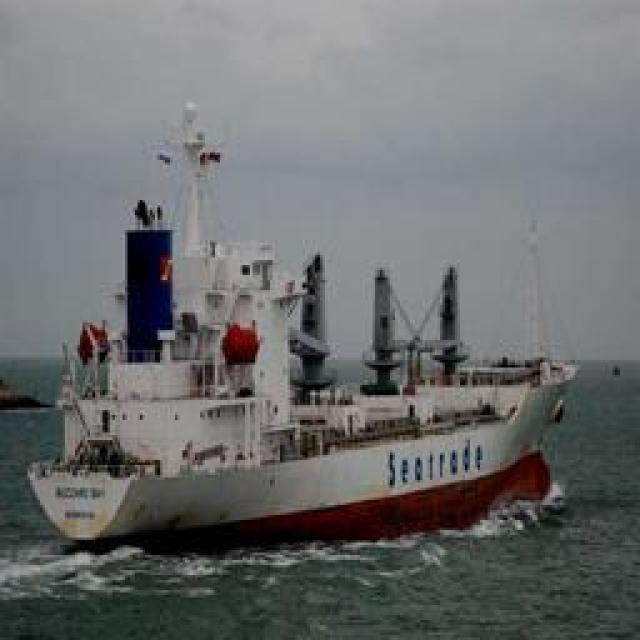ship2: (26, 106, 578, 550)
